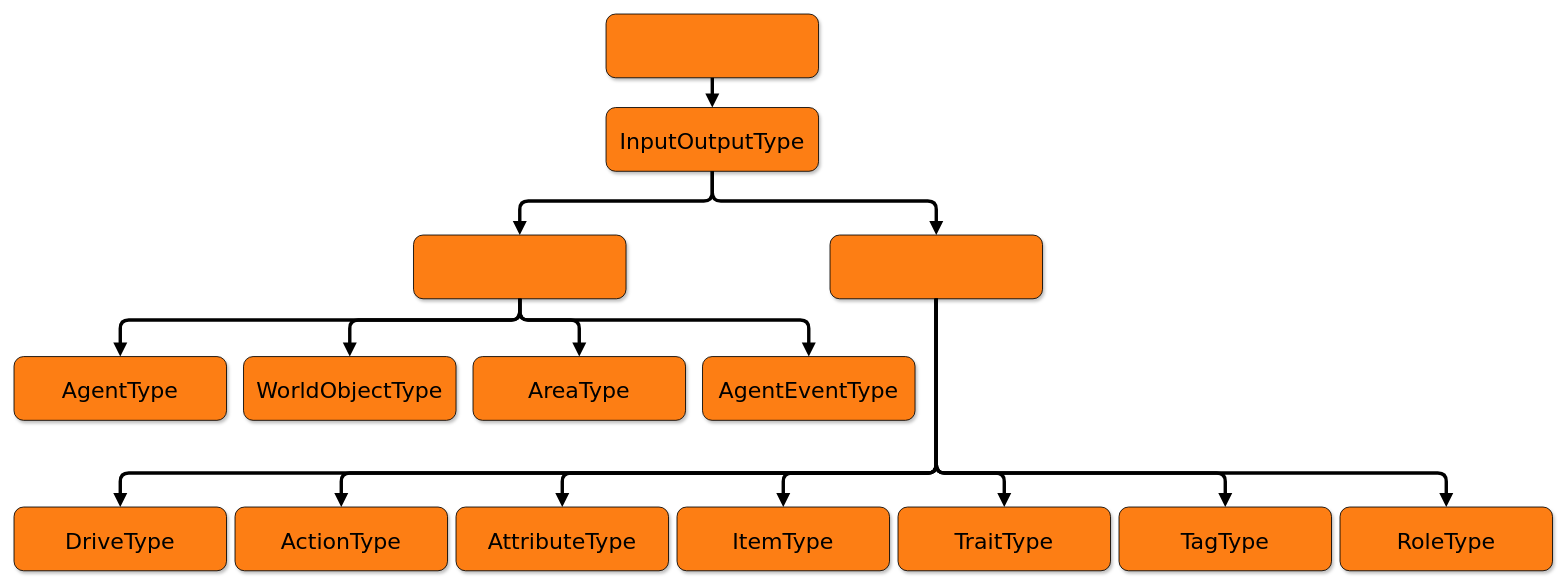
Some shapes in this 1567 by 585 pixel diagram are drawn without their labels. The shapes that lost their labels are listed below. From the top down, each one's centre as x and y in pixels, then its label:
At point (713, 47): "ScriptableObject".
At point (520, 268): "EntityType".
At point (937, 268): "LevelType".
